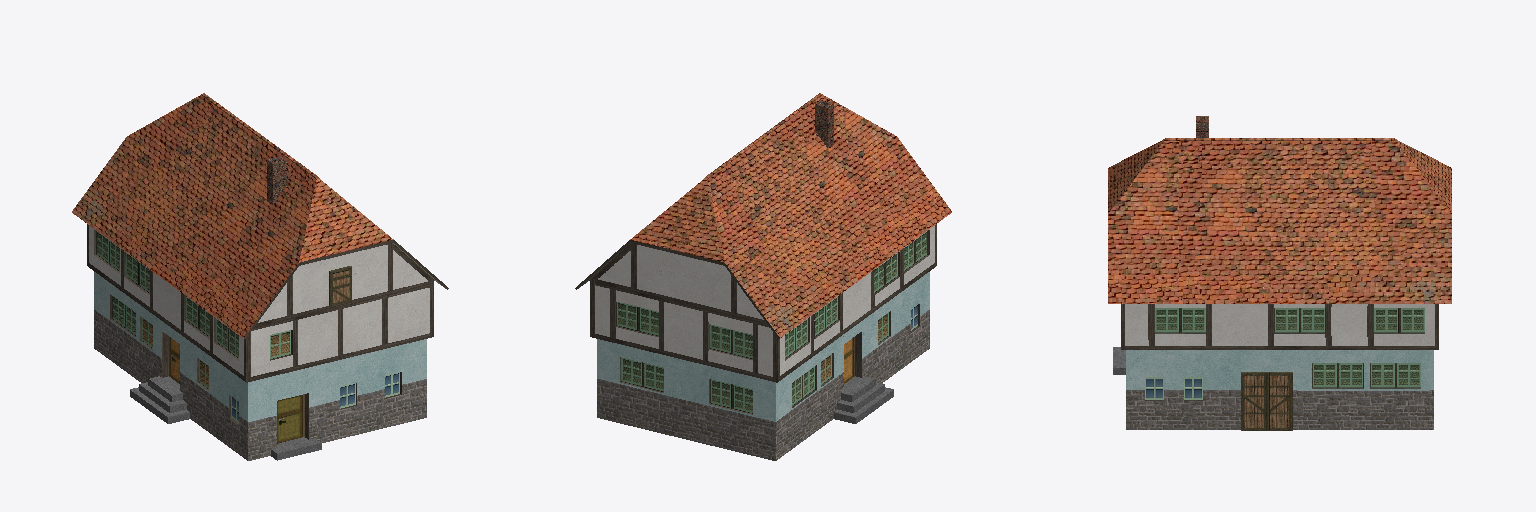
3 renders of one model, left to right at view 1: azimuth 30°, elevation 25°; view 2: azimuth 150°, elevation 25°; view 3: azimuth 270°, elevation 25°, orthographic.
Parts seen in each view (by area): view 1: NoName,1; view 2: NoName,1; view 3: NoName,1.
Part boxes in pixels (bbox=[...]): NoName,1: bbox=[72, 93, 448, 460]; NoName,1: bbox=[575, 93, 951, 460]; NoName,1: bbox=[1108, 116, 1451, 430].
Bounding box in the file's own units: 9.61 × 11 × 13.4.
Materials: 1 (1 with a texture image).